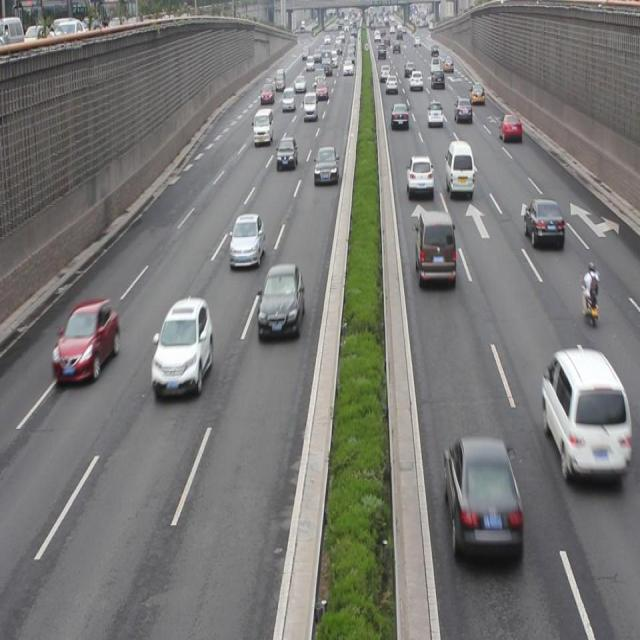car: (442, 436, 522, 564), (152, 299, 213, 397), (53, 298, 120, 382), (256, 263, 303, 337), (523, 195, 563, 248), (229, 212, 263, 268), (406, 154, 434, 193), (312, 144, 337, 183), (276, 136, 298, 170), (499, 111, 522, 143), (424, 100, 443, 129), (454, 95, 472, 122), (391, 102, 408, 130)
truck: (541, 346, 629, 481), (415, 210, 456, 286), (444, 140, 474, 198), (252, 109, 273, 145)
